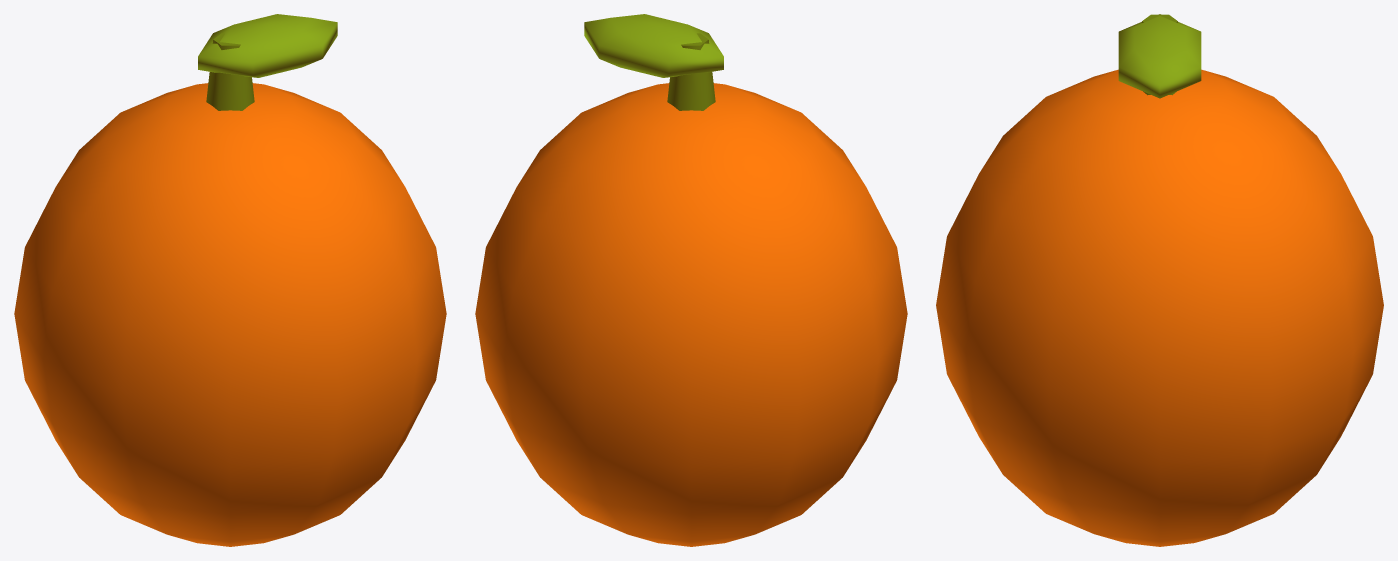
The model's file is fruit.glb.
3 views of the same model, side by side, from view 1: azimuth 30°, elevation 25°; view 2: azimuth 150°, elevation 25°; view 3: azimuth 270°, elevation 25° (orthographic). The views are drawn at different scales.
Parts seen in each view (by area): view 1: fruit; view 2: fruit; view 3: fruit.
Part boxes in pixels (x1,y1,x2,y2): fruit: [14, 14, 446, 546]; fruit: [475, 14, 907, 546]; fruit: [936, 14, 1383, 546].
Size of the model in its own units: 0.5 by 0.633 by 0.5.
